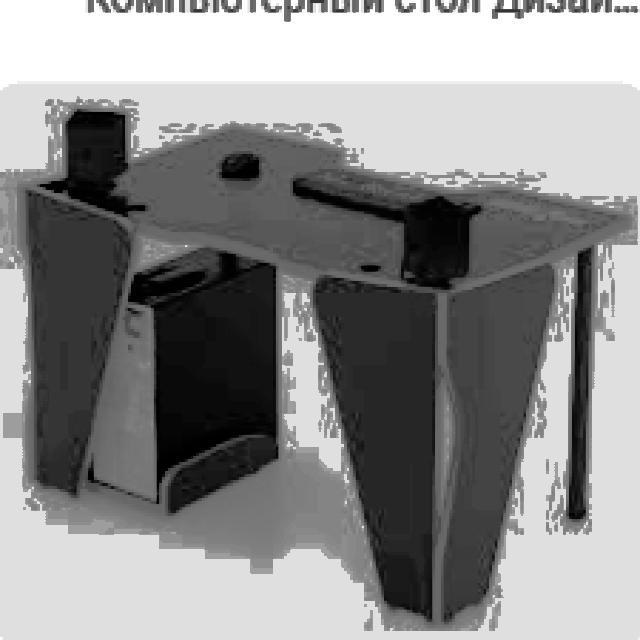table: (17, 115, 632, 625)
